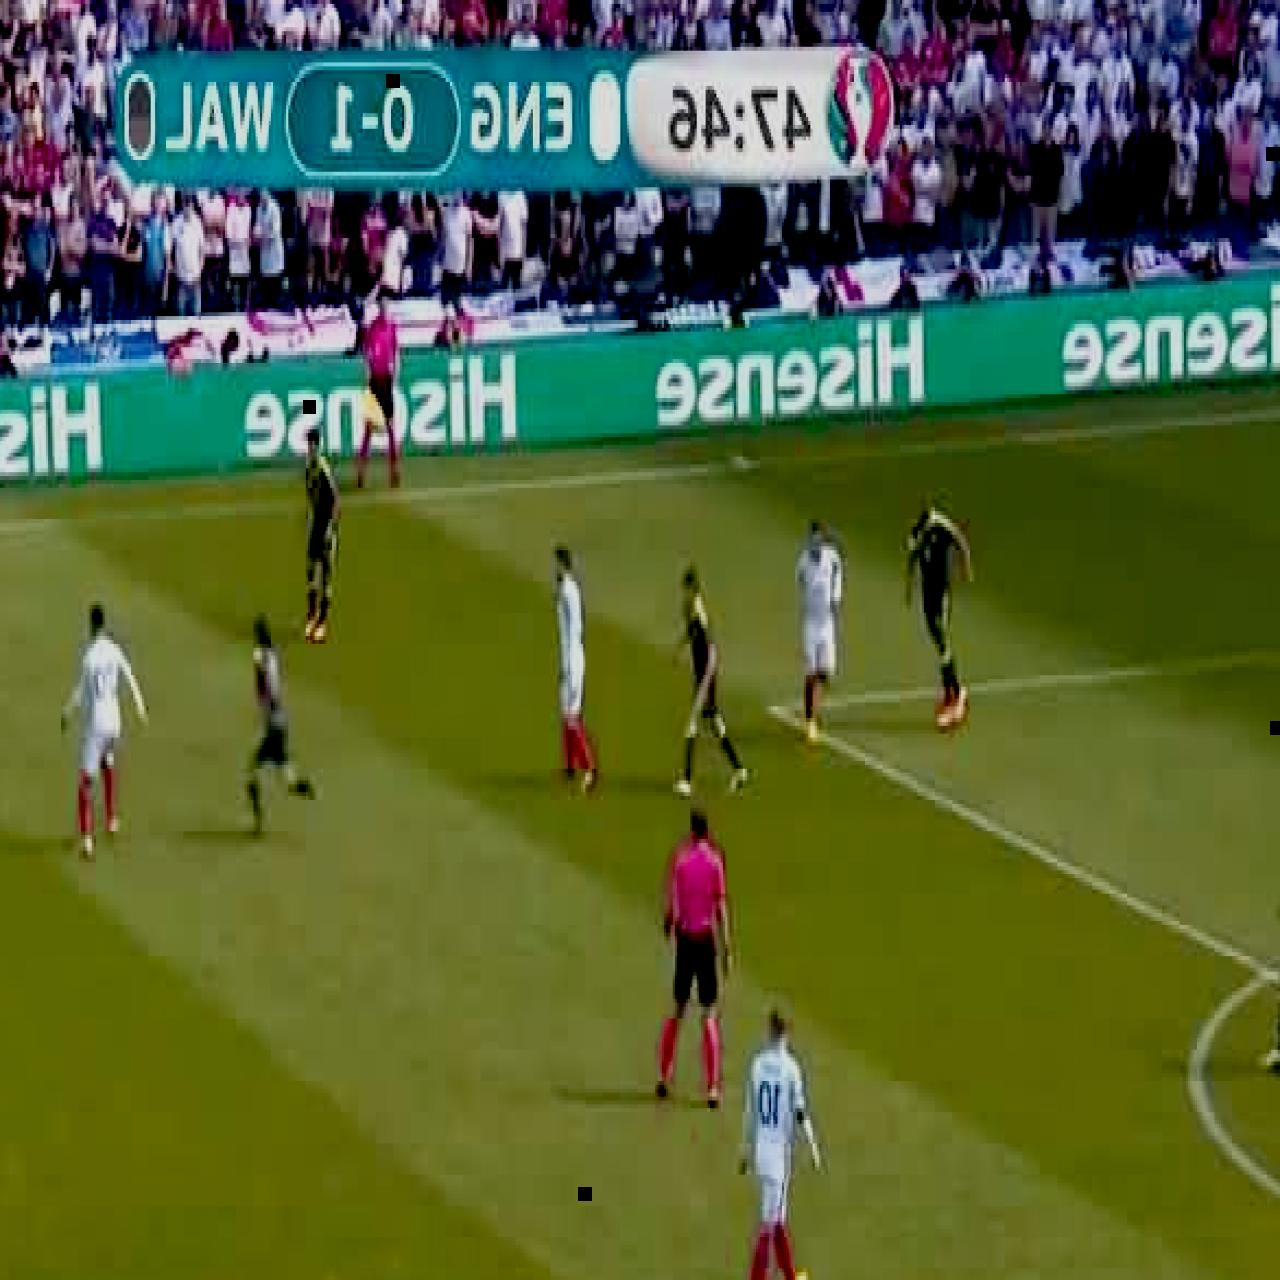football: (657, 810, 732, 1102), (62, 604, 148, 858), (743, 1010, 822, 1280), (672, 570, 748, 796), (901, 499, 973, 731), (246, 613, 314, 833), (554, 546, 597, 792), (796, 526, 842, 744), (358, 287, 401, 485), (302, 428, 340, 644), (1267, 777, 1280, 1069)
